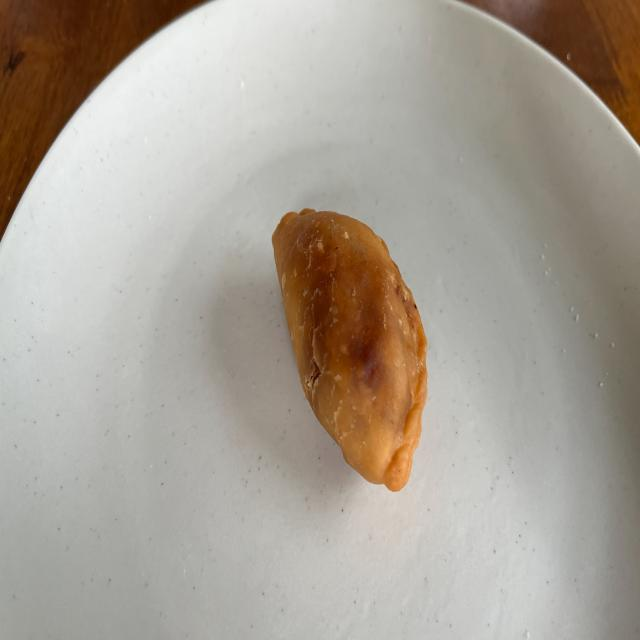karipap: (272, 209, 428, 491)
